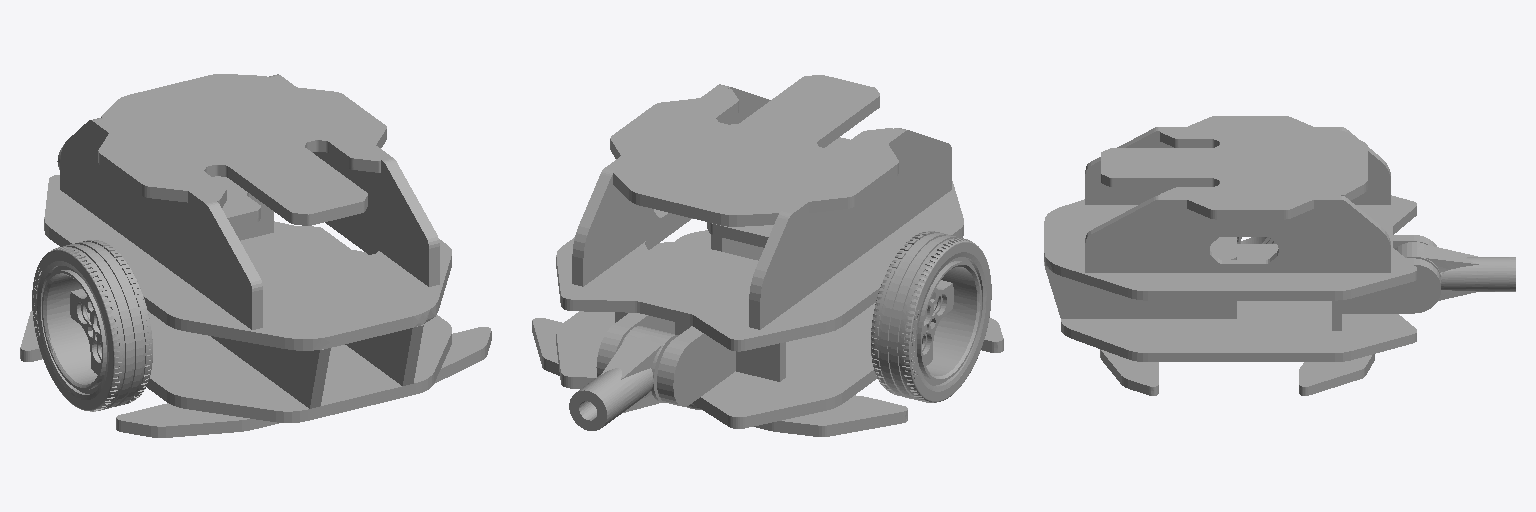
URDF robot description (my_robot):
<?xml version="1.0"?>
<robot name="my_robot">
    <material name="grey">
        <color rgba="0.7 0.7 0.7 1"/>    
    </material>

    <material name="white">
        <color rgba="1 1 1 1" />
    </material>

    <link name="base_footprint"/>

    <link name="base_link">
        <visual>
            <geometry>
                <mesh filename="package://robot_definition/meshes/bodyD.stl" scale="1 1 1"/>
            </geometry>
            <origin xyz="0 0 0" rpy="0 0 0" />
            <material name="grey" />
        </visual>
        <collision>
            <geometry>
                <mesh filename="package://robot_definition/meshes/bodyD.stl" scale="1 1 1"/>
            </geometry>
        </collision>
        <inertial>
            <mass value="1.139"/>
            <inertia ixx="1.18074e-6" 
                 ixy="1.1e-10" 
                 ixz="2.15e-9"
                 iyy="7.3334e-7" 
                 iyz="-9.61e-9"
                 izz="1.339e-6"/>
        </inertial>
    </link>

    <link name="left_wheel">
        <visual>
            <geometry>
                <mesh filename="package://robot_definition/meshes/leftwheelE.stl" scale="1 1 1"/>
            </geometry>
            <origin xyz="0 0 0" rpy="0 0 0" />
            <material name="grey" />
        </visual>
        <collision>
            <geometry>
                <mesh filename="package://robot_definition/meshes/leftwheelE.stl" scale="1 1 1"/>
            </geometry>
        </collision>
        <inertial>
            <mass value="0.029"/>
            <inertia ixx="2.510e-6" 
                ixy="-1e-10" 
                ixz="0"
                iyy="1.34e-6" 
                iyz="0"
                izz="1.341e-6"/>
        </inertial>
    </link>

    <link name="right_wheel">
        <visual>
            <geometry>
                <mesh filename="package://robot_definition/meshes/rightwheelE.stl" scale="1 1 1"/>
            </geometry>
            <origin xyz="0 0 0" rpy="0 0 0" />
            <material name="grey" />
        </visual>
        <collision>
            <geometry>
                <mesh filename="package://robot_definition/meshes/rightwheelE.stl" scale="1 1 1"/>
            </geometry>
        </collision>
        <inertial>
            <mass value="0.029"/>
            <inertia ixx="2.510e-6"
                ixy="1e-10" 
                ixz="0"
                iyy="1.34e-6" 
                iyz="0"
                izz="1.341e-6"/>
        </inertial>
    </link>

    <link name="end_effector">
        <visual>
            <geometry>
                <mesh filename="package://robot_definition/meshes/end_effector_wp.stl" scale="1 1 1"/>
            </geometry>
            <origin xyz="0 0 0" rpy="0 0 0" />
            <material name="grey" />
        </visual>
        <collision>
            <geometry>
                <mesh filename="package://robot_definition/meshes/end_effector_wp.stl" scale="1 1 1"/>
            </geometry>
        </collision>
        <inertial>
            <mass value="0.028"/>
            <inertia ixx="2.510e-6" 
                     ixy="-1e-10" 
                     ixz="0"
                     iyy="1.34e-6" 
                     iyz="0"
                     izz="1.341e-6"/>
        </inertial>
    </link>

    <joint name="base_joint" type="fixed">
        <parent link="base_footprint" />
        <child link="base_link" />
        <origin xyz="0 0 0" rpy="0 0 0" />
    </joint>

    <joint name="base_left_wheel_joint" type="continuous">
        <parent link="base_link" />
        <child link="left_wheel" />
        <origin xyz="0.0648 -0.000776 -0.013125" rpy="0 0 0" />
        <axis xyz="-1 0 0" />
    </joint>

    <joint name="base_right_wheel_joint" type="continuous">
        <parent link="base_link" />
        <child link="right_wheel" />
        <origin xyz="-0.0648 -0.000776 -0.013125" rpy="0 0 0" />
        <axis xyz="-1 0 0" />
    </joint>

    <joint name="end_effector_joint" type="revolute">
        <parent link="base_link" />
        <child link="end_effector" />
        <origin xyz="0.000056 0.09004 -0.014117" rpy="0 0 0" />
        <axis xyz="1 0 0" />
        <limit lower="0" upper="1.57" effort="0" velocity="0" />
    </joint>
</robot>

--- What the picture shows (computed from the rendered views, not written in the file) ---
The picture shows the robot from 3 angles, left to right: view 1: azimuth 30°, elevation 25°; view 2: azimuth 150°, elevation 25°; view 3: azimuth 270°, elevation 25°; orthographic projection.
Model my_robot with 5 links and 4 joints (1 revolute, 2 continuous, 1 fixed), rooted at base_footprint, posed every joint at zero.
Visible links, largest first — view 1: base_link, right_wheel; view 2: base_link, right_wheel, end_effector; view 3: base_link, end_effector.
Boxes of the visible links, left/top/right/bottom form: base_link: left=20, top=74, right=491, bottom=437; right_wheel: left=32, top=240, right=152, bottom=411; base_link: left=532, top=75, right=1003, bottom=436; right_wheel: left=871, top=231, right=991, bottom=402; end_effector: left=569, top=326, right=678, bottom=430; base_link: left=1044, top=116, right=1440, bottom=395; end_effector: left=1395, top=242, right=1515, bottom=300.
Bounding box of the posed robot: 0.169 × 0.2316 × 0.0922 m (x, y, z).
Meshes: 4 distinct files referenced, 3 mesh visuals loaded (3 binary STL); not drawn: 1 (reference not matched to a file when rendering).